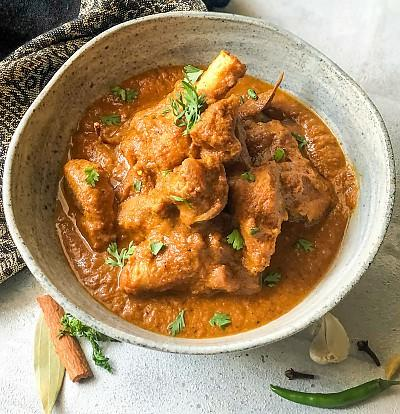MuttonCurry: (56, 50, 352, 336)
